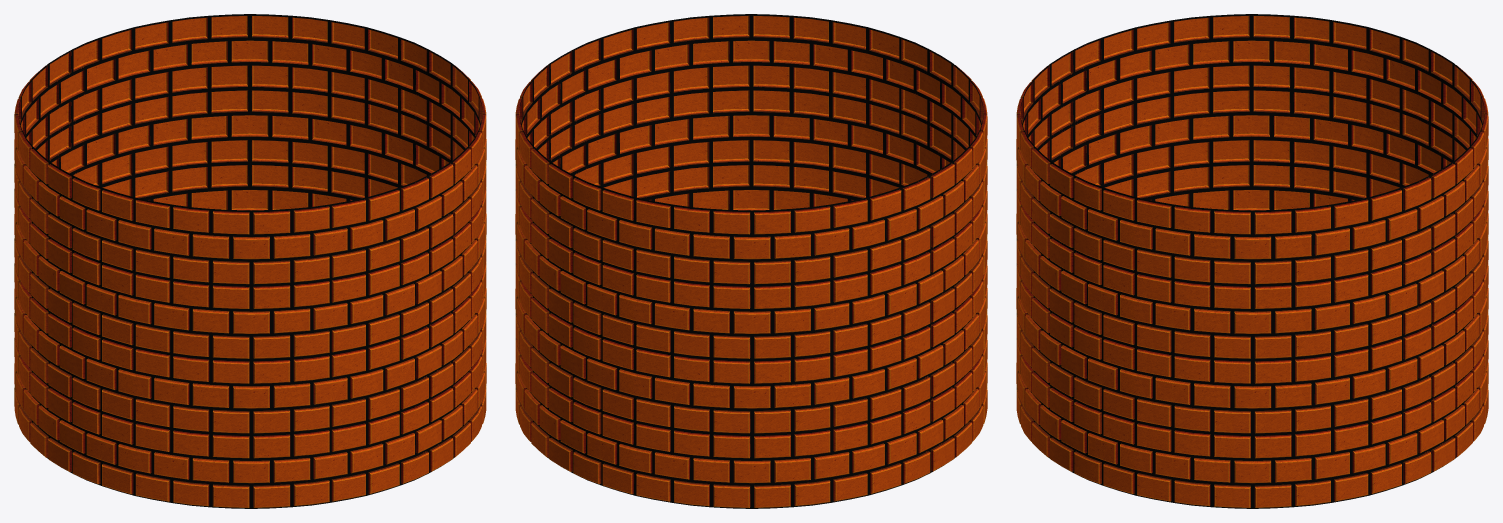
File: Castle_Wall_Round.fbx
The picture shows the model from 3 angles, left to right: view 1: azimuth 30°, elevation 25°; view 2: azimuth 150°, elevation 25°; view 3: azimuth 270°, elevation 25°; orthographic projection.
Parts seen in each view (by area): view 1: Wall_Cylinder_LOD0; view 2: Wall_Cylinder_LOD0; view 3: Wall_Cylinder_LOD0.
Part boxes in pixels (left/top/right/bottom): Wall_Cylinder_LOD0: left=14, top=14, right=486, bottom=508; Wall_Cylinder_LOD0: left=515, top=14, right=987, bottom=508; Wall_Cylinder_LOD0: left=1016, top=14, right=1488, bottom=508.
Size of what is drawn, in the model's own units: 1148 by 800 by 1148.
